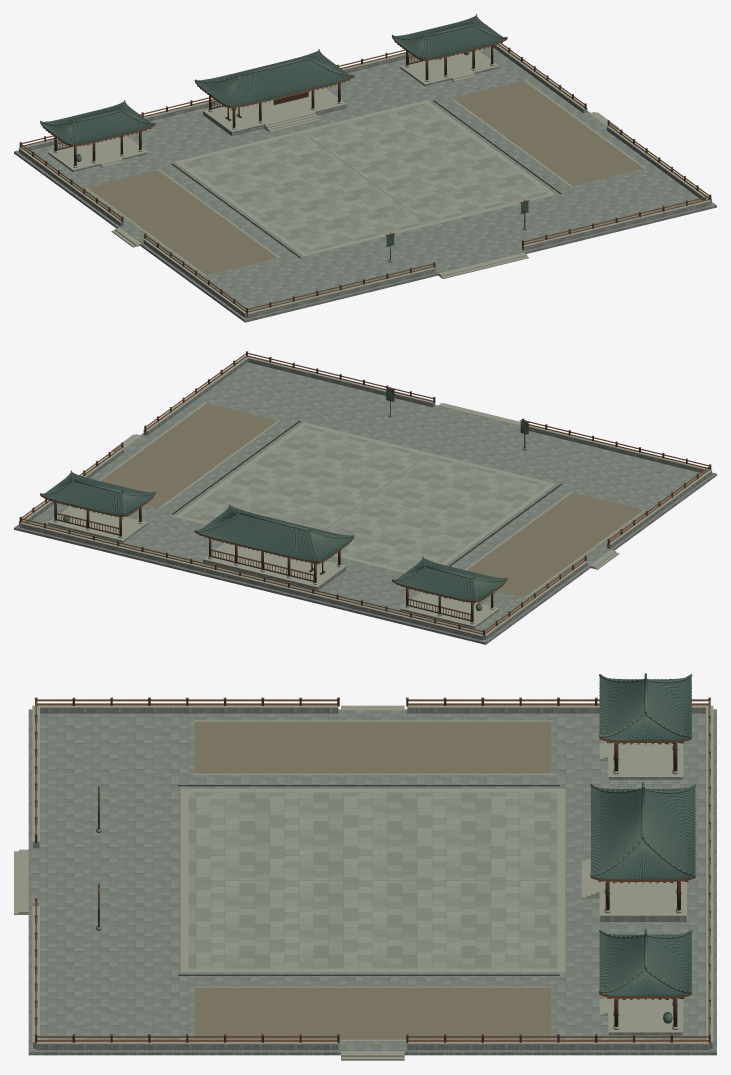
Rendered from martial_training_ground.glb.
3 renders of one model, top to bottom at view 1: azimuth 30°, elevation 25°; view 2: azimuth 150°, elevation 25°; view 3: azimuth 270°, elevation 25°, orthographic. The views are drawn at different scales.
Parts seen in each view (by area): view 1: Training_Paving, Training_CourtPaving, Training_PackedEarth, Training_Coping, Training_JadeTile, Training_TileEdge, Training_Ashlar, Training_CarvedWood, Training_Timber, Training_Iron; view 2: Training_Paving, Training_CourtPaving, Training_PackedEarth, Training_Coping, Training_Ashlar, Training_JadeTile, Training_TileEdge, Training_CarvedWood, Training_Timber, Training_Iron; view 3: Training_Paving, Training_CourtPaving, Training_PackedEarth, Training_Coping, Training_TileEdge, Training_JadeTile, Training_Ashlar, Training_CarvedWood, Training_Timber, Training_Joint, Training_Iron.
Boxes of the visible parts, <box> form: Training_Paving: <box>17,46,713,319</box>; Training_CourtPaving: <box>182,103,548,252</box>; Training_PackedEarth: <box>87,81,643,275</box>; Training_Coping: <box>18,43,712,314</box>; Training_JadeTile: <box>41,16,506,144</box>; Training_TileEdge: <box>40,14,507,144</box>; Training_Ashlar: <box>14,45,716,322</box>; Training_CarvedWood: <box>19,36,711,312</box>; Training_Timber: <box>19,46,711,313</box>; Training_Iron: <box>54,62,561,257</box>; Training_Paving: <box>17,362,713,641</box>; Training_CourtPaving: <box>182,425,548,570</box>; Training_PackedEarth: <box>100,403,643,597</box>; Training_Coping: <box>18,356,712,636</box>; Training_Ashlar: <box>14,359,716,644</box>; Training_JadeTile: <box>41,472,506,600</box>; Training_TileEdge: <box>40,470,507,600</box>; Training_CarvedWood: <box>19,351,711,634</box>; Training_Timber: <box>19,352,711,635</box>; Training_Iron: <box>54,420,561,621</box>; Training_Paving: <box>31,710,713,1050</box>; Training_CourtPaving: <box>188,792,557,968</box>; Training_PackedEarth: <box>194,721,550,1039</box>; Training_Coping: <box>14,705,713,1060</box>; Training_TileEdge: <box>590,673,696,995</box>; Training_JadeTile: <box>591,676,695,995</box>; Training_Ashlar: <box>28,708,716,1055</box>; Training_CarvedWood: <box>34,684,710,1041</box>; Training_Timber: <box>35,699,710,1043</box>; Training_Joint: <box>178,785,559,975</box>; Training_Iron: <box>178,745,680,1025</box>.
Bounding box in the file's own units: 68 × 6.73 × 57.2.
16 materials, 10 textured.
